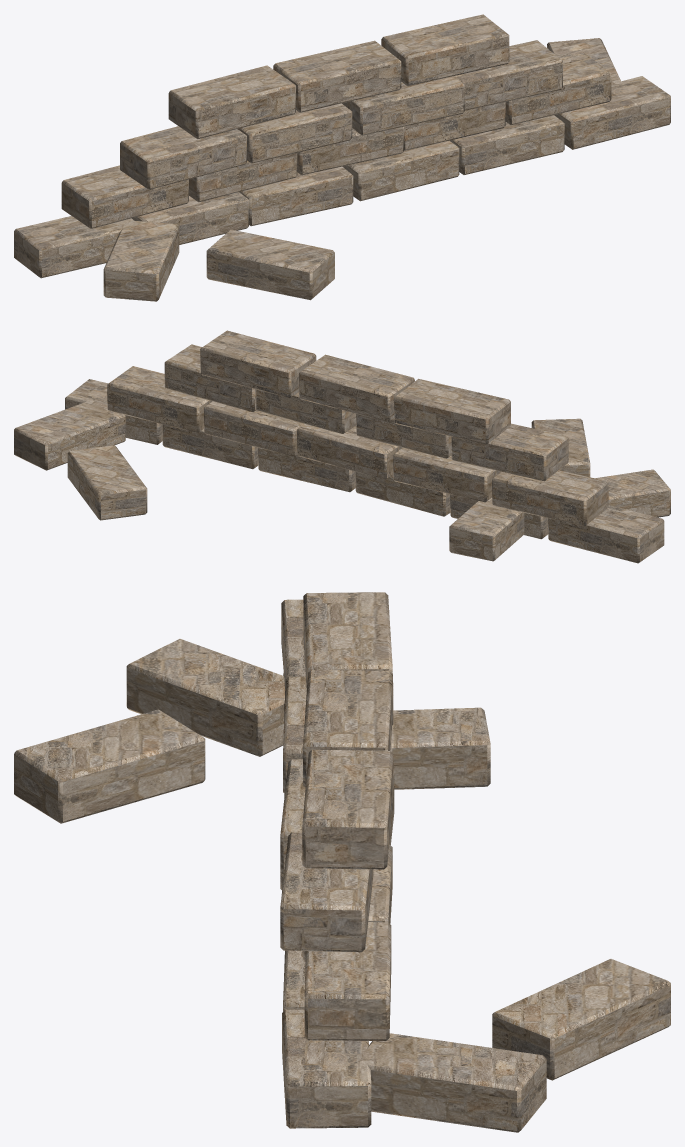
Rendered from brick-pile-v01.glb.
The picture shows the model from 3 angles, top to bottom: view 1: azimuth 30°, elevation 25°; view 2: azimuth 150°, elevation 25°; view 3: azimuth 270°, elevation 25°; orthographic projection. The views are drawn at different scales.
Visible parts, largest first — view 1: brick-pile; view 2: brick-pile; view 3: brick-pile.
Boxes of the visible parts, x1,y1,x2,y2 form: brick-pile: (14, 14, 670, 301); brick-pile: (14, 330, 670, 563); brick-pile: (14, 592, 670, 1132).
Bounding box in the file's own units: 2.63 × 0.495 × 1.55.
1 material, 1 textured.
